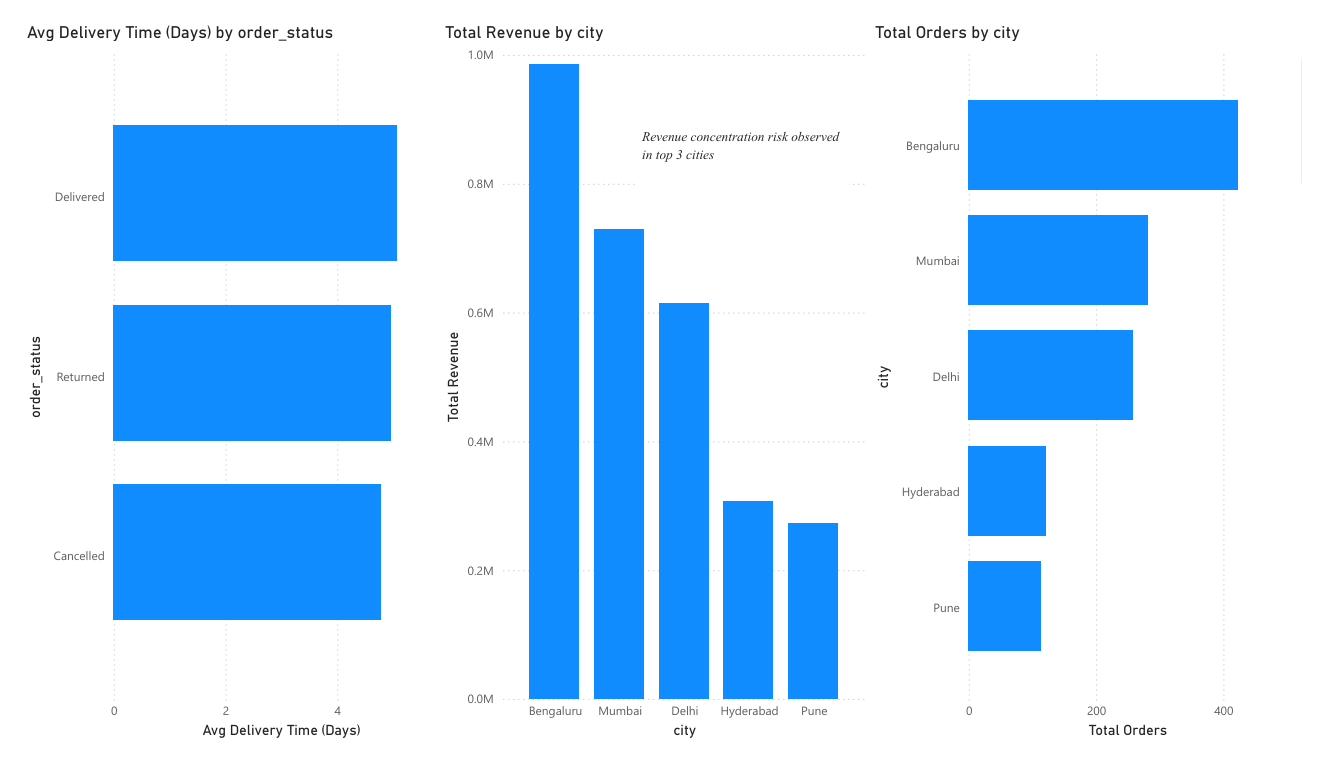

What the dashboard file says about the page in this screenshot:
{"tool":"powerbi","page":{"name":"Page 3","canvas":[1280,720],"ordinal":2},"visuals":[{"type":"barChart","fields":{"Y":["revenue_decline_orders.Avg Delivery Time (Days)"],"Category":["revenue_decline_orders.order_status"]},"box":[0,0,435.7,721],"z":0},{"type":"columnChart","fields":{"Category":["revenue_decline_orders.city"],"Y":["revenue_decline_orders.Total Revenue"]},"box":[418.2,0,430.4,721.5],"z":1},{"type":"barChart","fields":{"Y":["revenue_decline_orders.Total Orders"],"Category":["revenue_decline_orders.city"]},"box":[848.2,0,431.8,721],"z":2},{"type":"textbox","box":[615.1,100.3,212.8,83.2],"z":3}]}

Visuals, with their boxes in screenshot pixels (x1, y1, x2, y2), scaled from the page's 1280x720 canvas onto the 1325x765 screenshot:
barChart - revenue_decline_orders.Avg Delivery Time (Days) x revenue_decline_orders.order_status: left=0, top=0, right=451, bottom=764
columnChart - revenue_decline_orders.city x revenue_decline_orders.Total Revenue: left=433, top=0, right=878, bottom=764
barChart - revenue_decline_orders.Total Orders x revenue_decline_orders.city: left=878, top=0, right=1324, bottom=764
textbox: left=637, top=107, right=857, bottom=195
